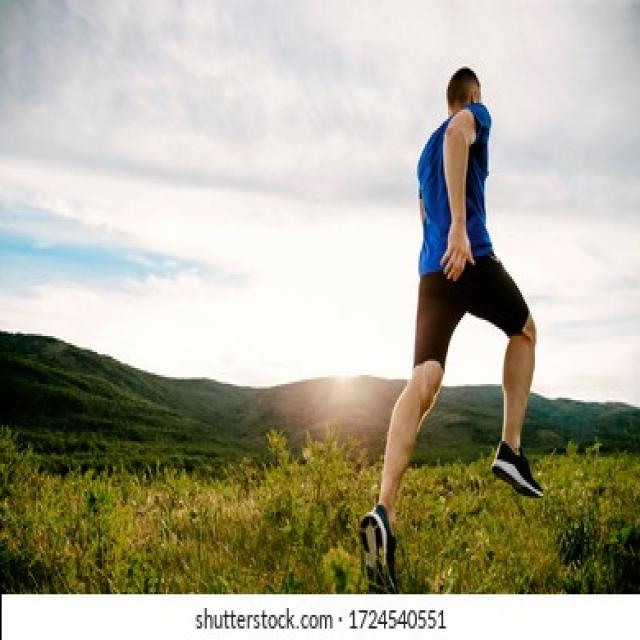running: (358, 59, 546, 594)
